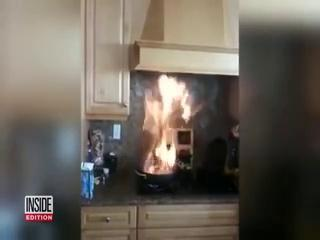Fire: (134, 93, 180, 176)
